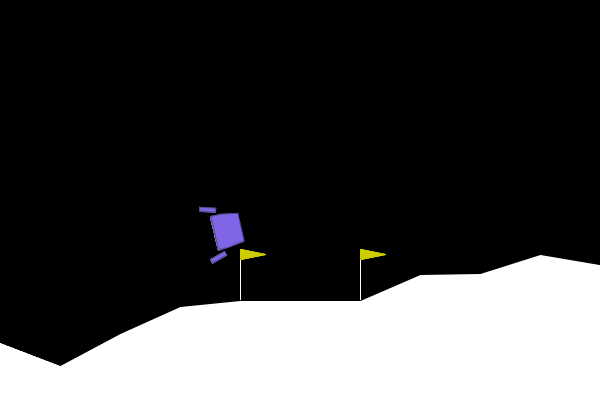lander: (197, 198, 249, 265)
